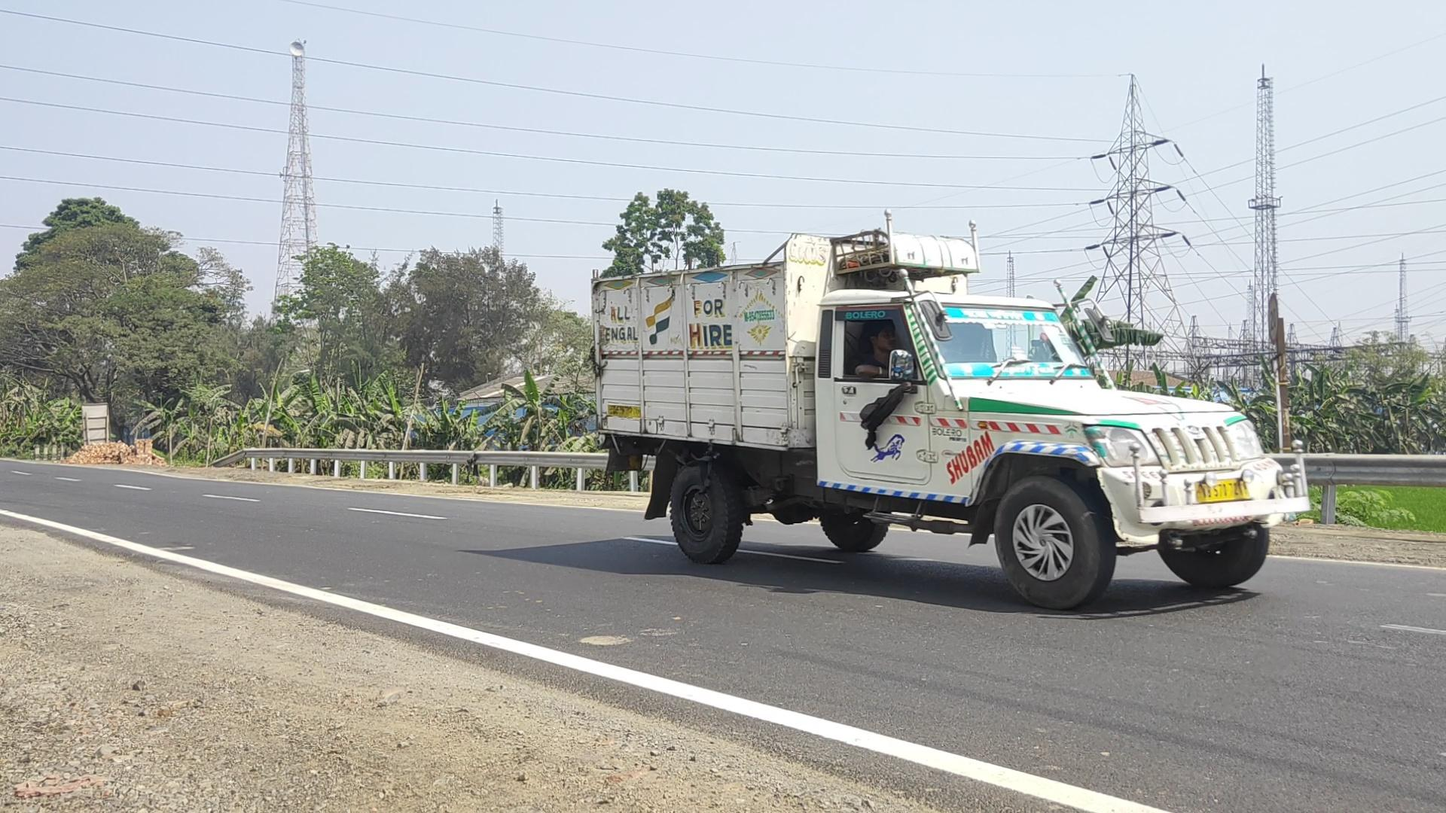van: (592, 207, 1310, 612)
